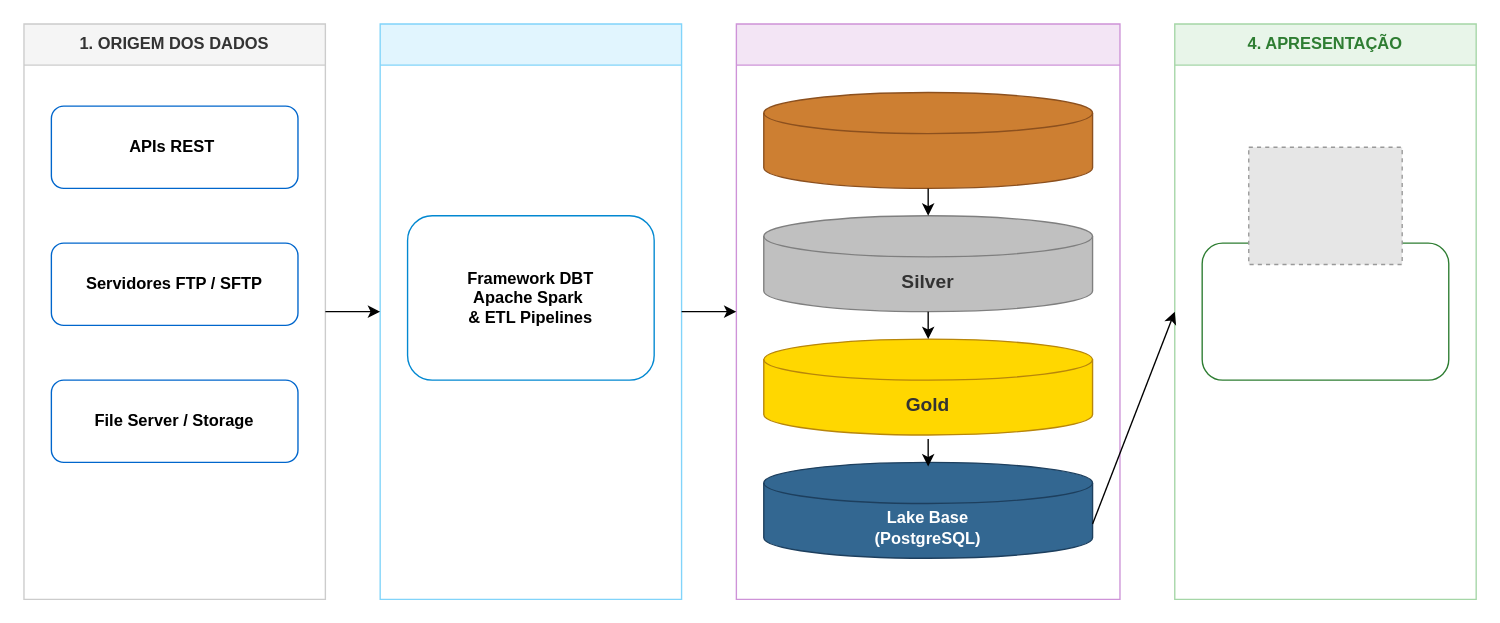
The diagram is 1500 pixels wide and 623 high, and some of its shapes have lost their labels. Grey dashed boxes stand in for pictures. Each missing label, with the box of its shape:
2. TRATAMENTO (DATABRICKS e PySpark): (379, 23, 682, 599)
3. ARMAZENAMENTO (AZURE / DATABRICKS): (735, 23, 1120, 599)
Bronze: (762, 91, 1093, 188)
Drupal CMS (Portal / Frontend): (1201, 242, 1449, 380)
